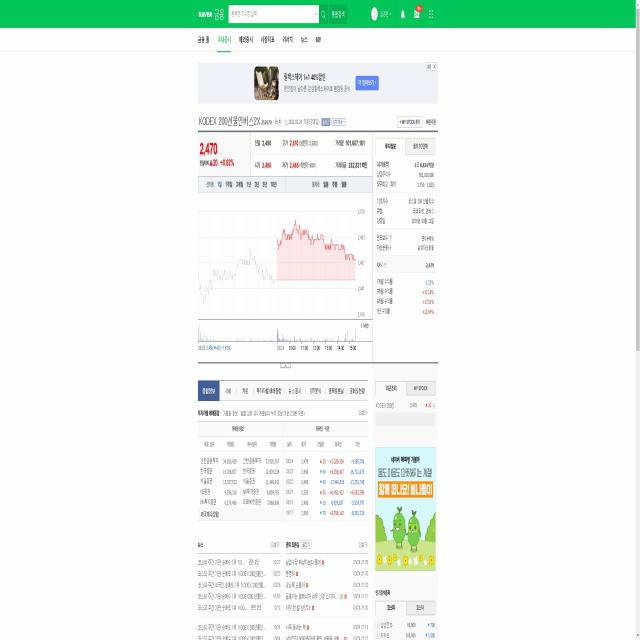menu-bar: (368, 1, 439, 27)
search: (226, 2, 328, 23)
side-panel: (373, 131, 439, 640)
tab-bar: (198, 379, 367, 400), (197, 32, 326, 48)
